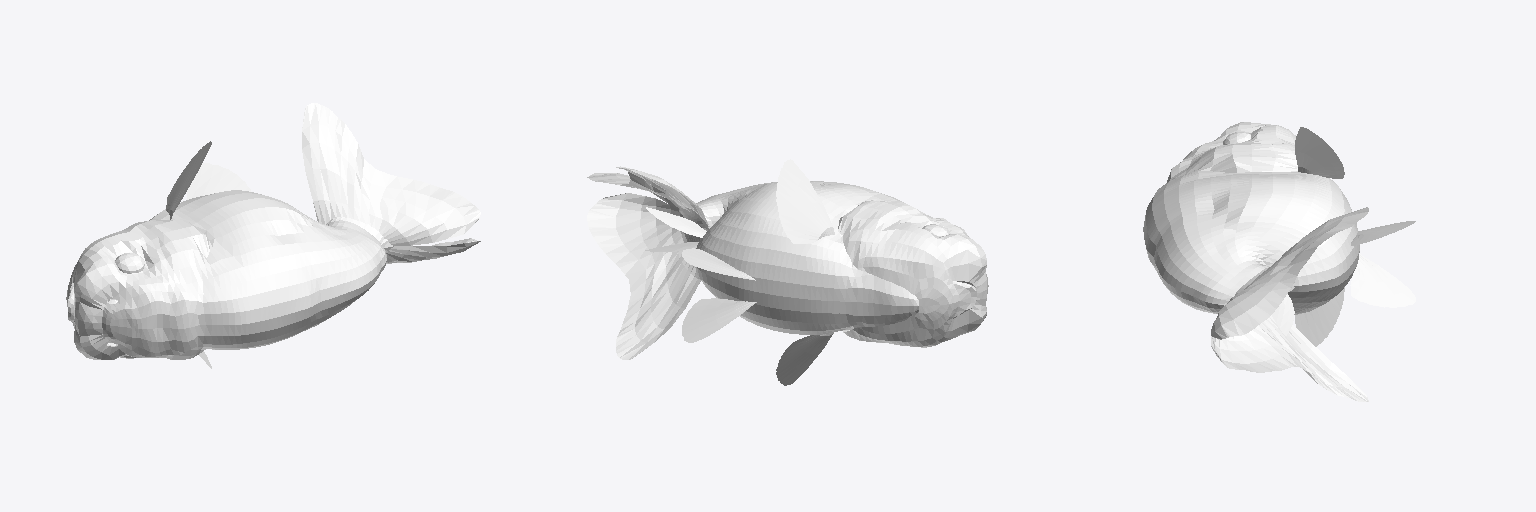
The model's file is Rantyu.obj.
3 views of the same model, side by side, from view 1: azimuth 30°, elevation 25°; view 2: azimuth 150°, elevation 25°; view 3: azimuth 270°, elevation 25° (orthographic).
Bounding box in the file's own units: 0.3991 × 0.2166 × 0.2377.